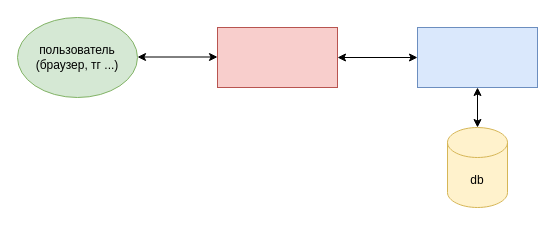
The diagram is 555 pixels wide and 225 high, and some of its shapes have lost their labels. The shapes that lost their labels are listed below. From the top down, each one's box as (x1, y1, x2, y2) in pixels, then its label:
(216, 26, 338, 88): loadBalncer
(416, 26, 538, 88): бек энд ноды 1..n
